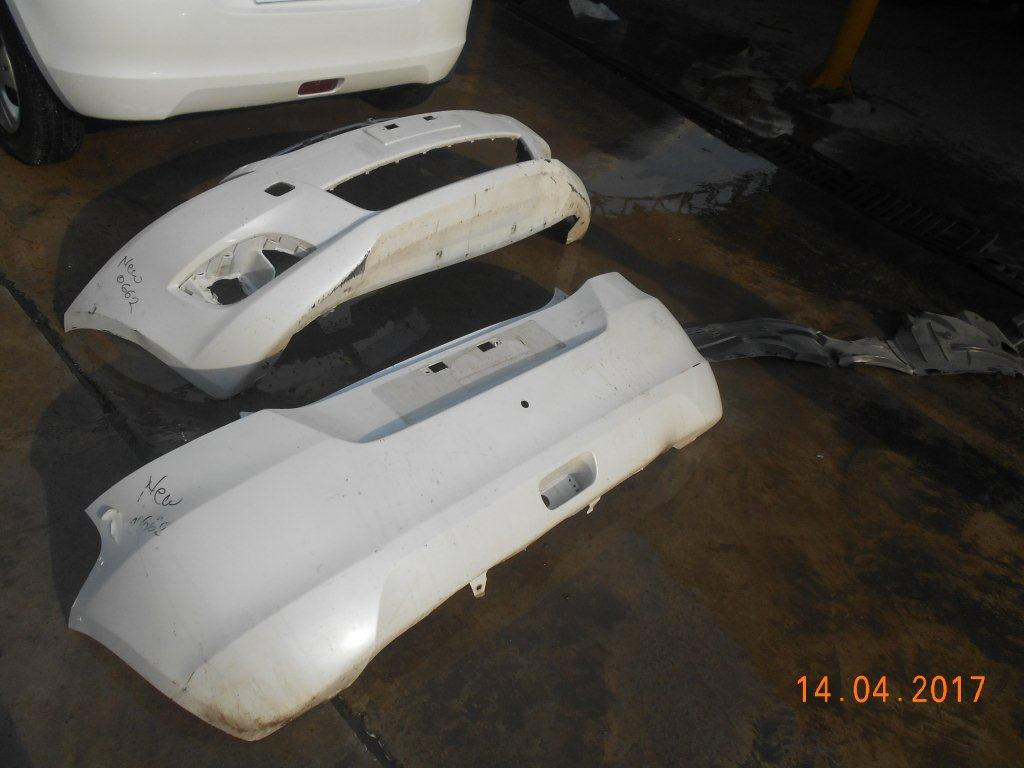Scratch_or_spot: (406, 447, 636, 528), (645, 380, 771, 431)
